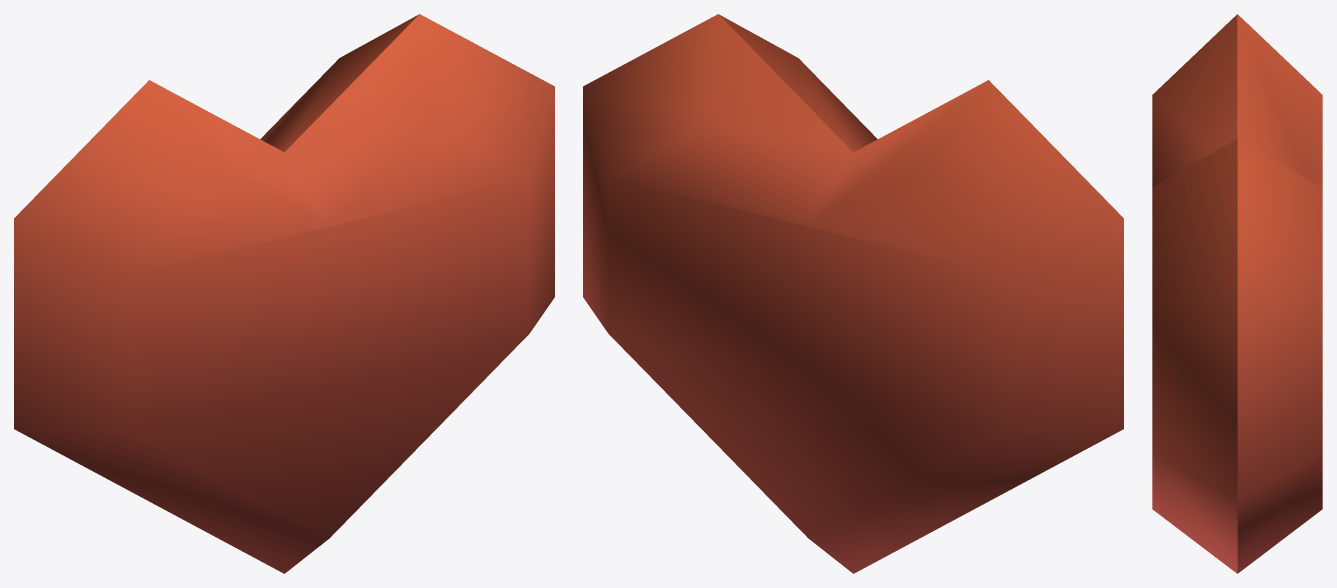
The model's file is coracao.glb.
3 renders of one model, left to right at view 1: azimuth 30°, elevation 25°; view 2: azimuth 150°, elevation 25°; view 3: azimuth 270°, elevation 25°, orthographic. The views are drawn at different scales.
Parts seen in each view (by area): view 1: modelo; view 2: modelo; view 3: modelo.
Part boxes in pixels (<box>): modelo: <box>14,14,554,573</box>; modelo: <box>583,14,1123,573</box>; modelo: <box>1152,14,1322,573</box>.
Bounding box in the file's own units: 1.22 × 1.14 × 0.3536.
